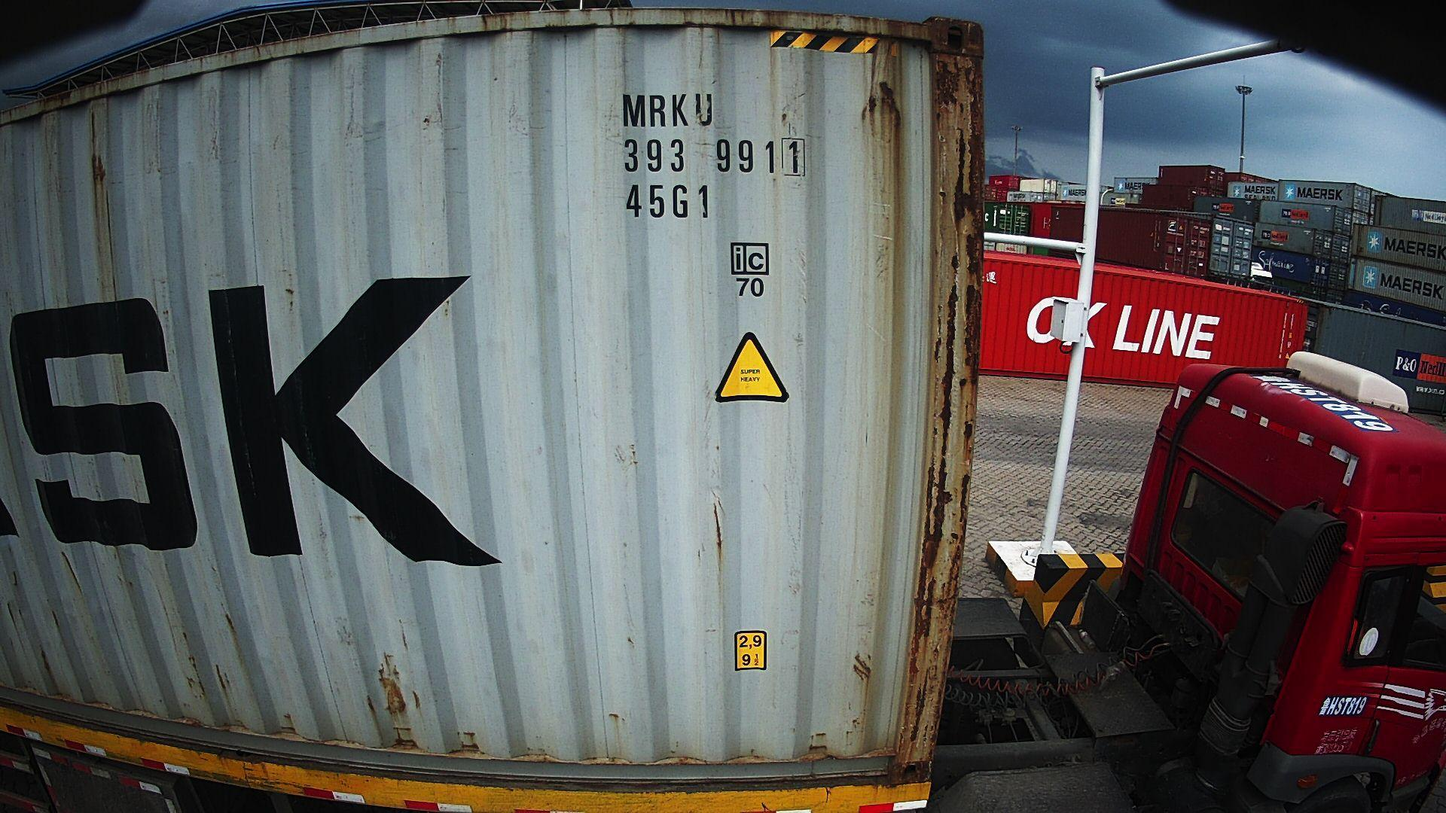container-numbers: (619, 135, 810, 180), (618, 90, 717, 132), (621, 183, 712, 224)
